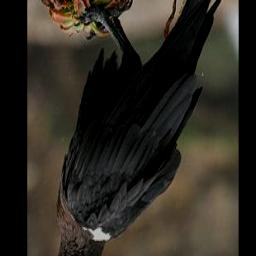Crow: (40, 0, 230, 256)
